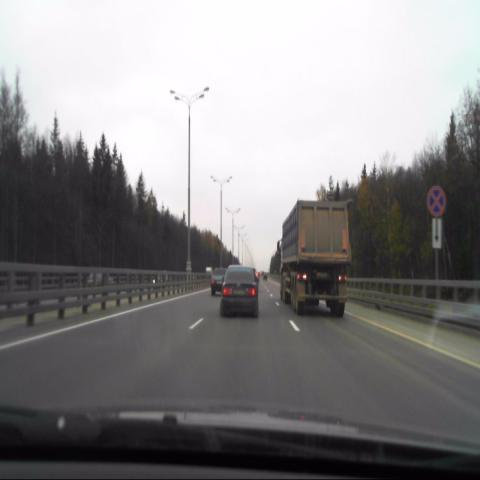8_2_3: (433, 220, 442, 250)
